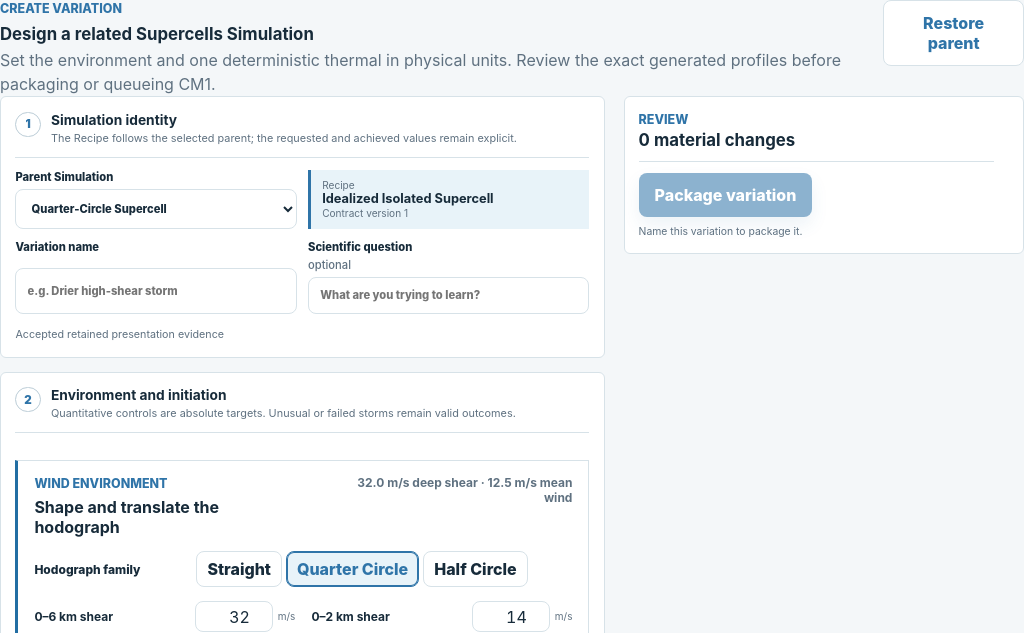
Scenario: SupercellsVariationEditor › clears the parent-restored status after the next edit
Check: the heading "0 material changes" is shown, box [639, 130, 795, 150]
Click the button "Restore parent" at coordinates (954, 33), box [883, 0, 1023, 66]
(page scrolled)
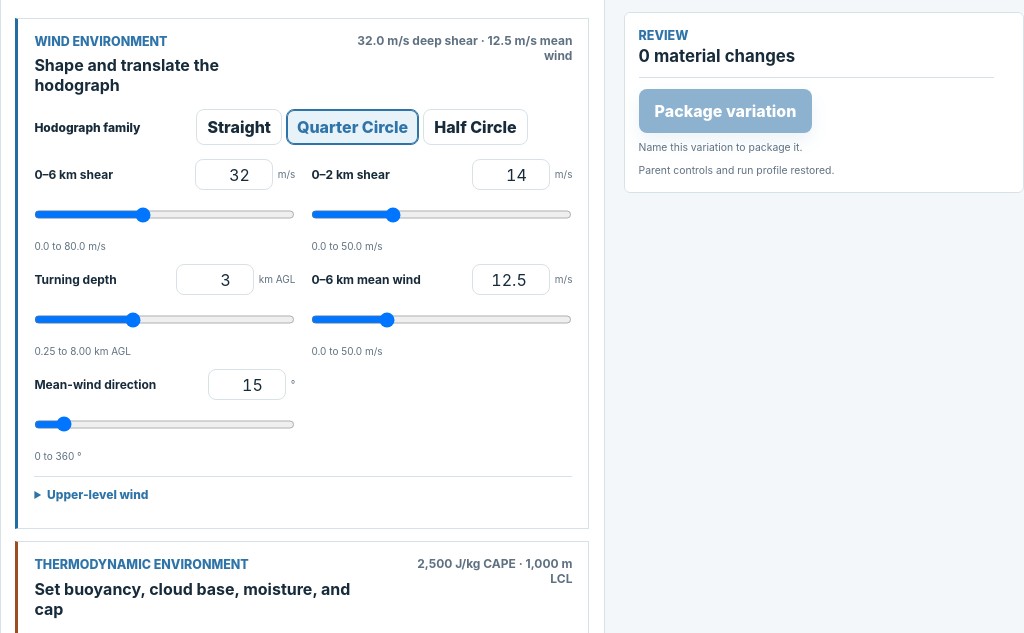
Check: the text "Parent controls and run profile restored." is shown, box [639, 164, 834, 178]
Replace the text in the number field named "Mean-wind direction value" with "90" at coordinates (247, 384), box [208, 369, 286, 400]
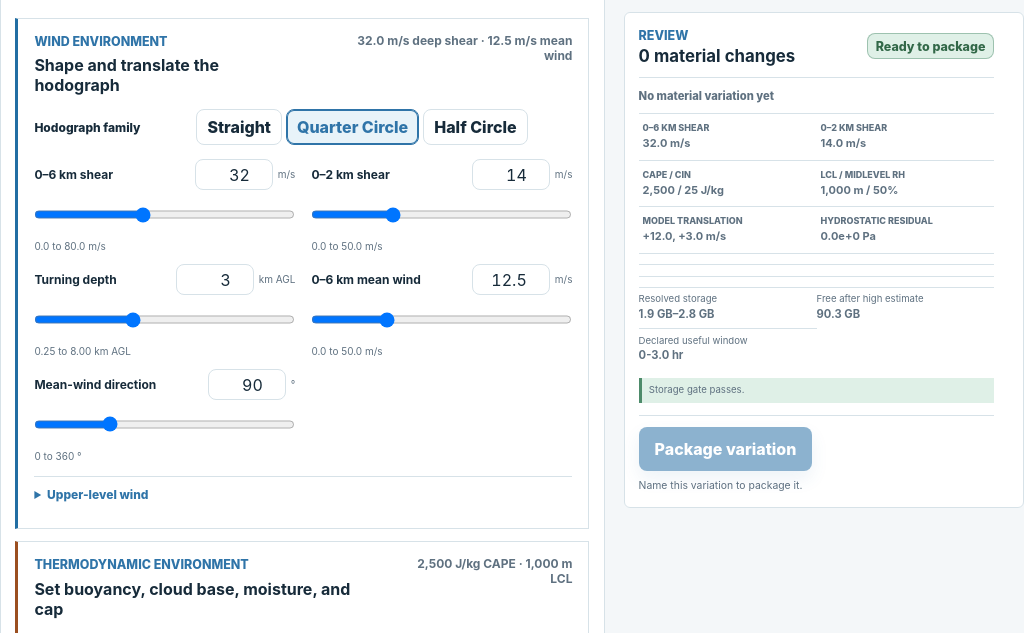
Check: the text "Parent controls and run profile restored." is gone
